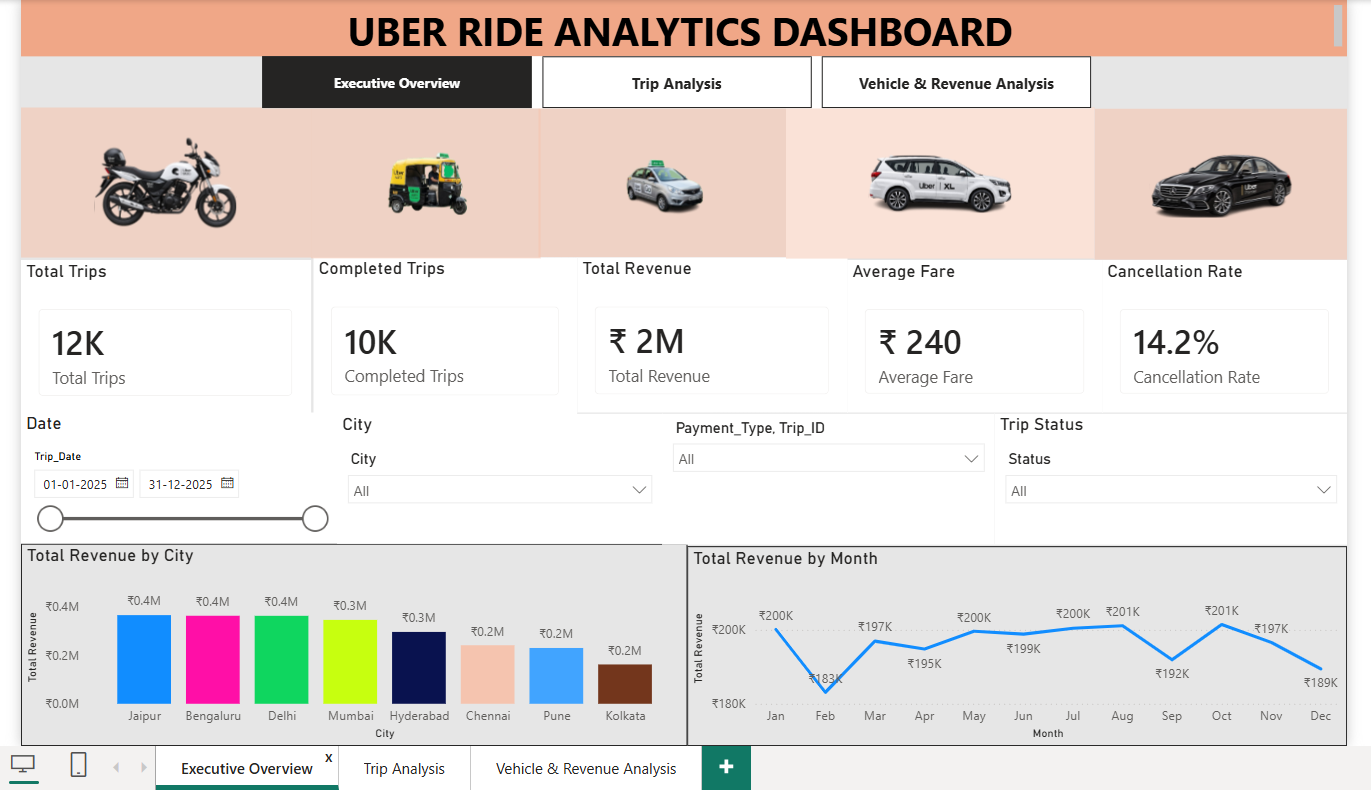

The dashboard page shown, as its layout file describes it:
{"tool":"powerbi","page":{"name":"Executive Overview","canvas":[1280,720],"ordinal":0},"visuals":[{"type":"cardVisual","title":"Total Trips","fields":{"Data":["Raw_Data.Total Trips"]},"box":[0,250.9,279.9,148.4],"z":0},{"type":"cardVisual","title":"Completed Trips","fields":{"Data":["Raw_Data.Completed Trips"]},"box":[282.3,248.5,254.6,150.8],"z":1000},{"type":"cardVisual","title":"Total Revenue","fields":{"Data":["Raw_Data.Total Revenue"]},"box":[536.9,248.5,260.6,149.6],"z":2000},{"type":"cardVisual","title":"Average Fare","fields":{"Data":["Raw_Data.Average Fare"]},"box":[797.5,250.9,246.1,147.2],"z":3000},{"type":"cardVisual","title":"Cancellation Rate","fields":{"Data":["Raw_Data.Cancellation Rate"]},"box":[1043.6,250.9,236.5,147.2],"z":4000},{"type":"lineChart","fields":{"Category":["DateTable.Month"],"Y":["Raw_Data.Total Revenue"]},"box":[643,527.2,637,193],"z":5000},{"type":"clusteredColumnChart","fields":{"Category":["Raw_Data.City"],"Y":["Raw_Data.Total Revenue"]},"box":[0,524.8,643,195.4],"z":6000},{"type":"actionButton","box":[499.5,102.5,238.9,146],"z":7000},{"type":"actionButton","box":[279.9,103.8,222,146],"z":8000},{"type":"actionButton","box":[0,103.8,279.9,144.8],"z":9000},{"type":"actionButton","box":[1036.3,105,243.7,146],"z":10000},{"type":"actionButton","box":[738.3,103.8,298,146],"z":11000},{"type":"slicer","title":"Payment Type","fields":{"Values":["Raw_Data.Payment_Type","Raw_Data.Trip_ID"]},"box":[618.9,399.3,320.9,126.7],"z":12000},{"type":"slicer","title":"Date","fields":{"Values":["Raw_Data.Trip_Date"]},"box":[0,398.1,305.2,126.7],"z":13000},{"type":"slicer","title":" City","fields":{"Values":["Raw_Data.City"]},"box":[305.4,399.7,314,125.4],"z":14000},{"type":"slicer","title":"Trip Status","fields":{"Values":["Raw_Data.Status"]},"box":[939.8,399.3,340.2,126.7],"z":15000},{"type":"textbox","box":[0,0,1280,54.3],"z":16000},{"type":"pageNavigator","box":[232.8,54.3,800,50],"z":17000}]}

Visuals, with their boxes on the page's 1280x720 design canvas (x1, y1, x2, y2). These are canvas units, not pixel positions in the 1371x790 screenshot, which may show the page scaled, cropped or inside an application window:
"Total Trips" cardVisual: (x1=0, y1=251, x2=280, y2=399)
"Completed Trips" cardVisual: (x1=282, y1=248, x2=537, y2=399)
"Total Revenue" cardVisual: (x1=537, y1=248, x2=798, y2=398)
"Average Fare" cardVisual: (x1=798, y1=251, x2=1044, y2=398)
"Cancellation Rate" cardVisual: (x1=1044, y1=251, x2=1280, y2=398)
lineChart - DateTable.Month x Raw_Data.Total Revenue: (x1=643, y1=527, x2=1280, y2=720)
clusteredColumnChart - Raw_Data.City x Raw_Data.Total Revenue: (x1=0, y1=525, x2=643, y2=720)
actionButton: (x1=500, y1=102, x2=738, y2=248)
actionButton: (x1=280, y1=104, x2=502, y2=250)
actionButton: (x1=0, y1=104, x2=280, y2=249)
actionButton: (x1=1036, y1=105, x2=1280, y2=251)
actionButton: (x1=738, y1=104, x2=1036, y2=250)
"Payment Type" slicer: (x1=619, y1=399, x2=940, y2=526)
"Date" slicer: (x1=0, y1=398, x2=305, y2=525)
" City" slicer: (x1=305, y1=400, x2=619, y2=525)
"Trip Status" slicer: (x1=940, y1=399, x2=1280, y2=526)
textbox: (x1=0, y1=0, x2=1280, y2=54)
pageNavigator: (x1=233, y1=54, x2=1033, y2=104)
